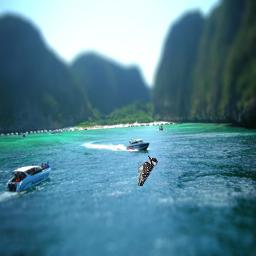Woodpecker: (132, 154, 158, 186)
